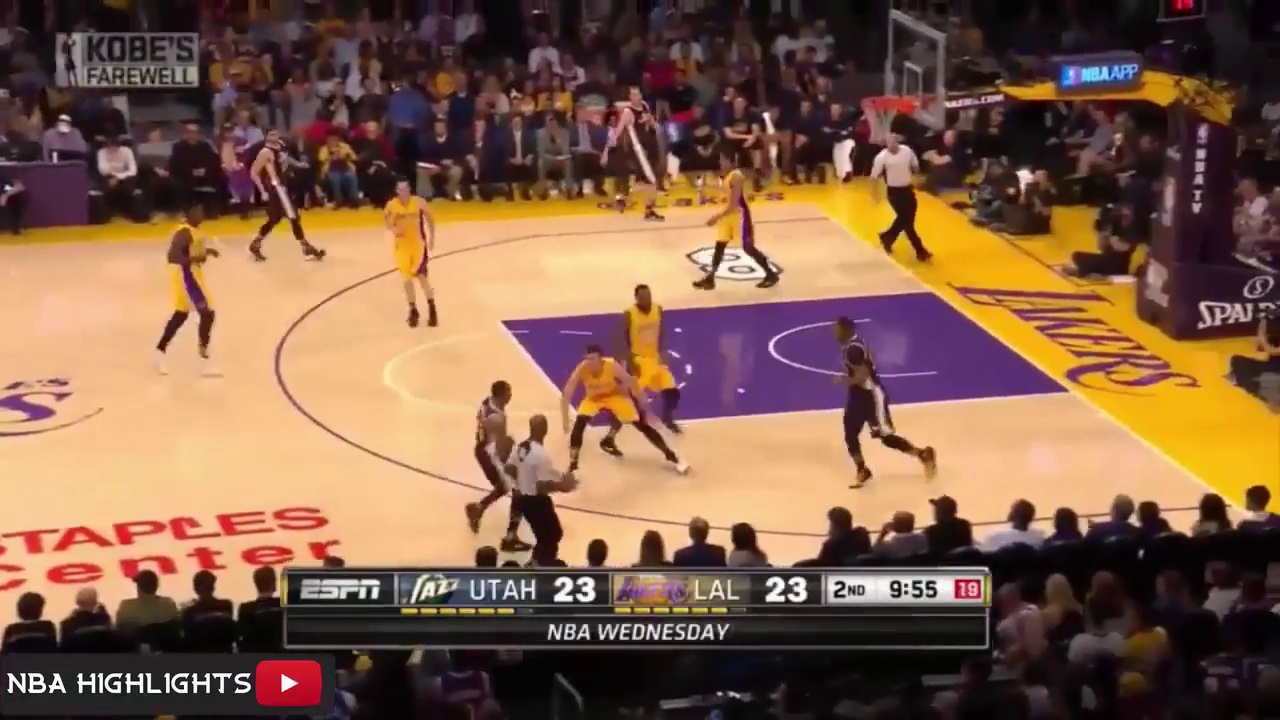jazz: (830, 311, 943, 487), (240, 123, 334, 261), (471, 379, 519, 546), (611, 86, 665, 220)
lakers: (561, 350, 689, 474), (154, 202, 231, 382), (698, 152, 789, 292), (380, 178, 450, 328), (626, 282, 688, 429)
